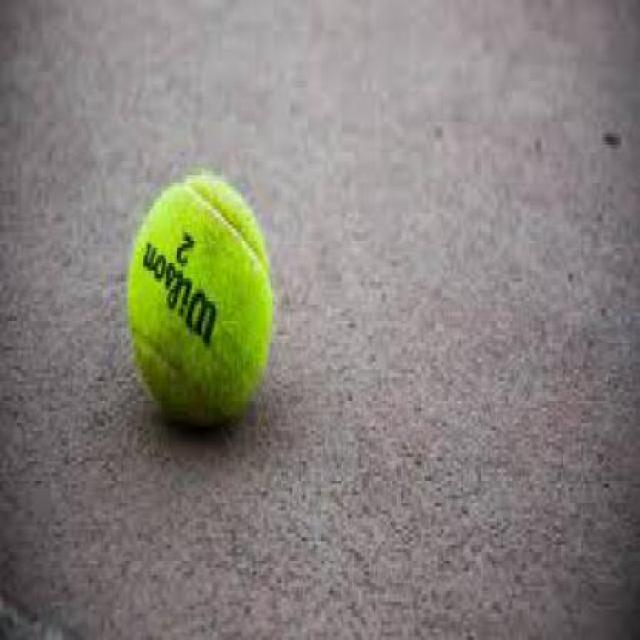Tennis_Ball: (129, 183, 274, 422)
